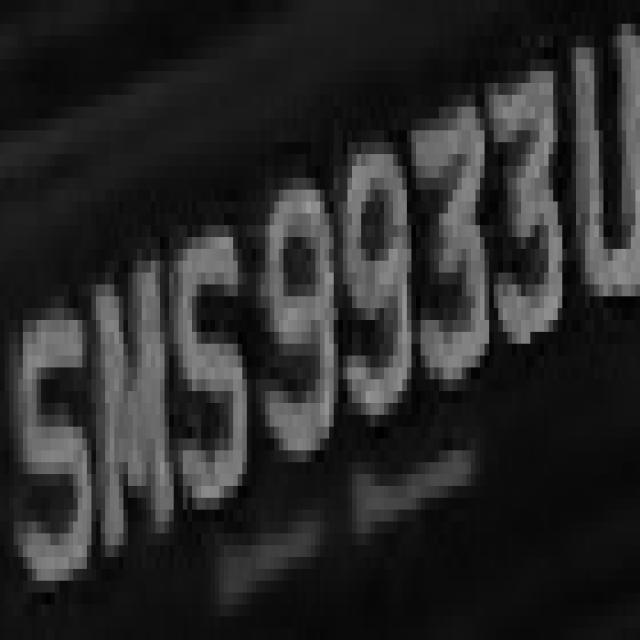3: (480, 59, 562, 415), (416, 83, 494, 415)
9: (329, 118, 425, 450), (251, 154, 343, 486)
L: (557, 0, 640, 308)
M: (78, 225, 183, 545)
S: (4, 272, 87, 592), (164, 213, 247, 510)
